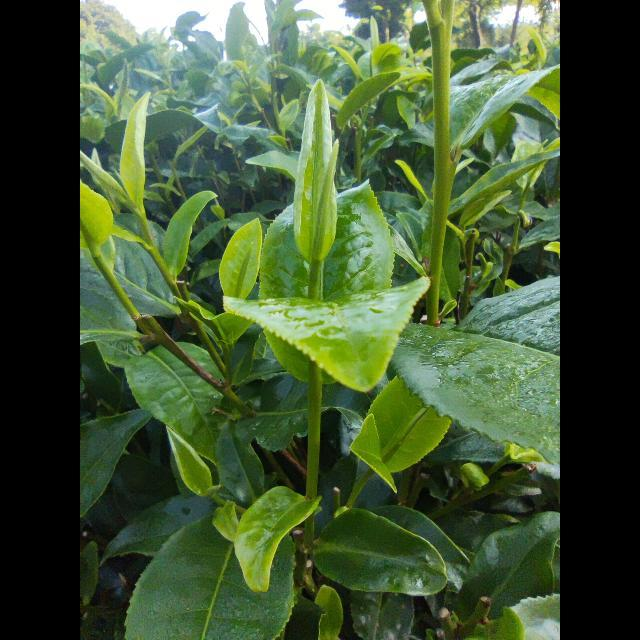Stem: (94, 254, 106, 268), (137, 212, 148, 223)
